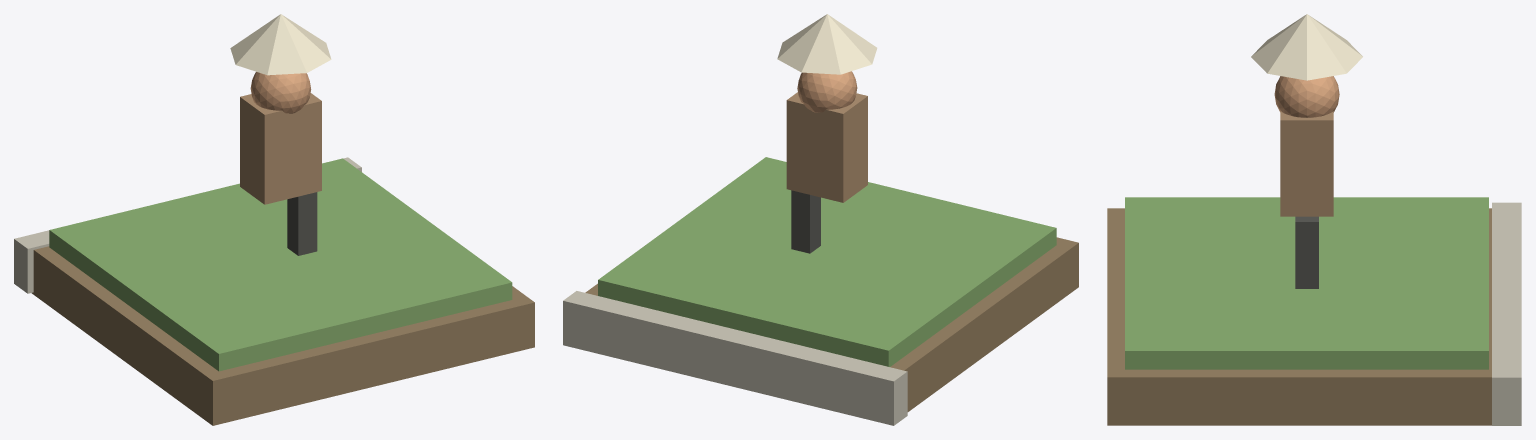
Rendered from 12_NongDan.glb.
The picture shows the model from 3 angles, left to right: view 1: azimuth 30°, elevation 25°; view 2: azimuth 150°, elevation 25°; view 3: azimuth 270°, elevation 25°; orthographic projection. The views are drawn at different scales.
Visible parts, largest first — view 1: grass, soil, body, hat, head, leg, border; view 2: grass, border, soil, body, hat, head, leg; view 3: grass, soil, border, body, hat, head, leg.
Part boxes in pixels (x1=…): grass: x1=49, y1=158, x2=512, y2=371; soil: x1=31, y1=246, x2=534, y2=425; body: x1=240, y1=93, x2=321, y2=204; hat: x1=230, y1=14, x2=331, y2=75; head: x1=250, y1=72, x2=311, y2=113; leg: x1=287, y1=192, x2=317, y2=255; border: x1=14, y1=157, x2=361, y2=293; grass: x1=598, y1=157, x2=1056, y2=366; border: x1=563, y1=291, x2=907, y2=425; soil: x1=585, y1=237, x2=1078, y2=411; body: x1=786, y1=92, x2=867, y2=202; hat: x1=777, y1=14, x2=877, y2=74; head: x1=797, y1=71, x2=857, y2=112; leg: x1=791, y1=190, x2=820, y2=253; grass: x1=1125, y1=197, x2=1488, y2=369; soil: x1=1107, y1=208, x2=1491, y2=425; border: x1=1492, y1=202, x2=1521, y2=425; body: x1=1280, y1=111, x2=1333, y2=216; hat: x1=1251, y1=14, x2=1362, y2=80; head: x1=1274, y1=76, x2=1339, y2=117; leg: x1=1295, y1=216, x2=1318, y2=288.
Size of the model in its own units: 1.4 by 1.22 by 1.4.
